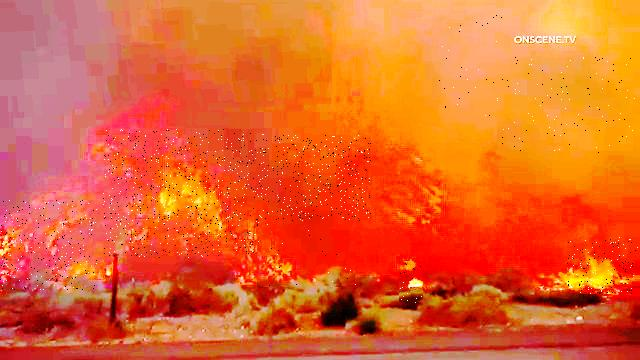fire: (103, 129, 269, 258), (0, 200, 97, 290), (258, 227, 359, 287), (568, 237, 640, 294), (400, 262, 426, 304)
smoke: (2, 2, 332, 118), (498, 58, 636, 154), (272, 135, 371, 221), (439, 16, 503, 119)
